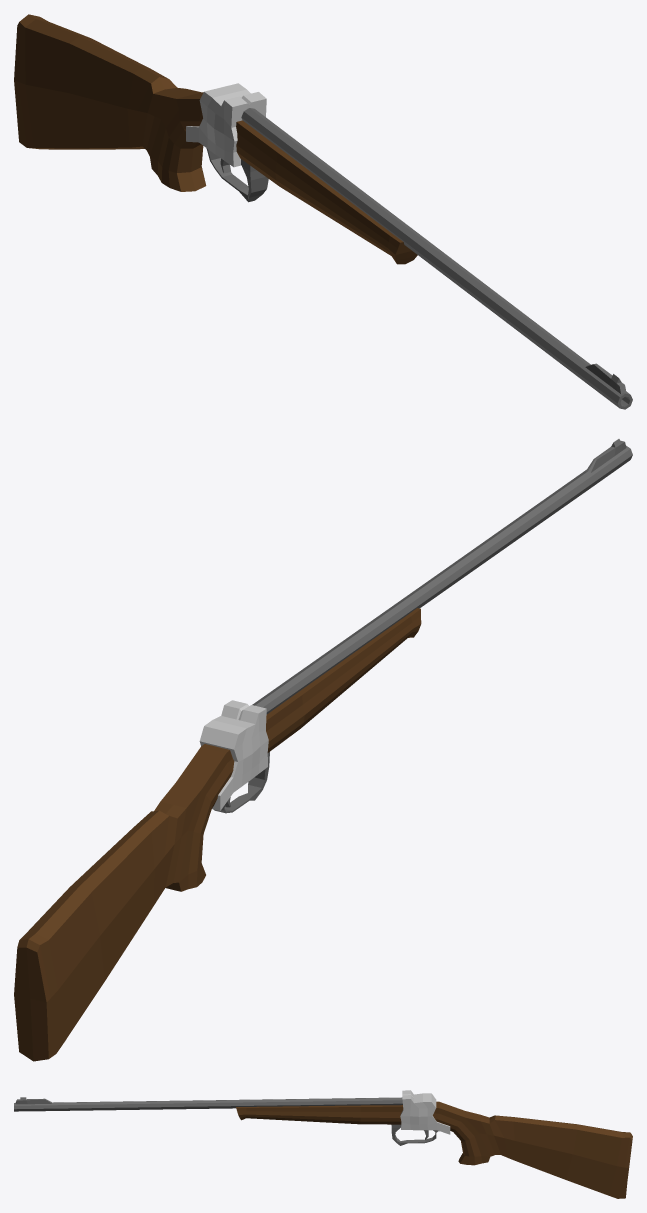
File: gun.fbx
3 renders of one model, top to bottom at view 1: azimuth 30°, elevation 25°; view 2: azimuth 150°, elevation 25°; view 3: azimuth 270°, elevation 25°, orthographic. The views are drawn at different scales.
Visible parts, largest first — view 1: Cylinder; view 2: Cylinder; view 3: Cylinder.
Part boxes in pixels (x1,y1,x2,y2): Cylinder: (14,14,632,409); Cylinder: (14,439,632,1061); Cylinder: (14,1090,632,1198).
Size of the model in its own units: 17.57 by 86.79 by 471.
